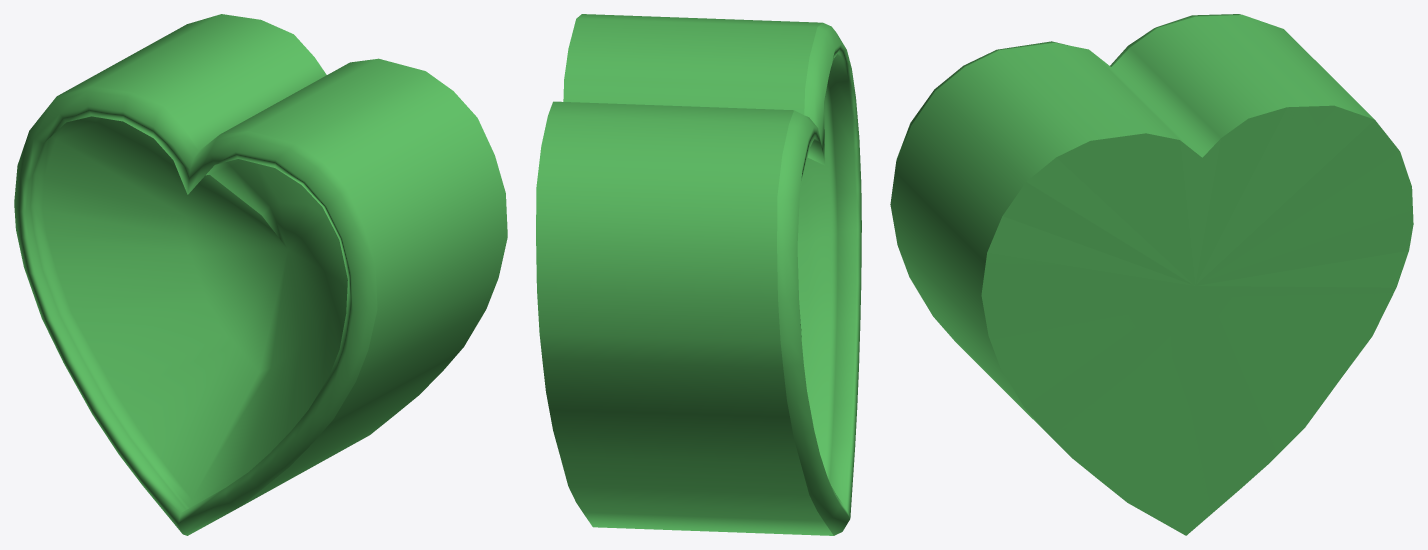
File: BL5_8shapes_heart_Classic_Metal.001 2.glb
3 renders of one model, left to right at view 1: azimuth 30°, elevation 25°; view 2: azimuth 150°, elevation 25°; view 3: azimuth 270°, elevation 25°, orthographic. The views are drawn at different scales.
Parts seen in each view (by area): view 1: BL5_8shapes_heart_Classic_Metal.001; view 2: BL5_8shapes_heart_Classic_Metal.001; view 3: BL5_8shapes_heart_Classic_Metal.001.
Boxes of the visible parts, <box> form: BL5_8shapes_heart_Classic_Metal.001: <box>14,14,507,535</box>; BL5_8shapes_heart_Classic_Metal.001: <box>536,14,861,535</box>; BL5_8shapes_heart_Classic_Metal.001: <box>890,14,1413,535</box>.
Size of the model in its own units: 0.432 by 0.5088 by 0.5626.
